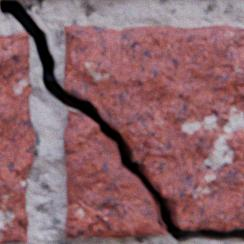brick: (0, 33, 34, 242)
broken_brick: (64, 25, 243, 230), (63, 109, 167, 237)
crack: (0, 0, 243, 242)
